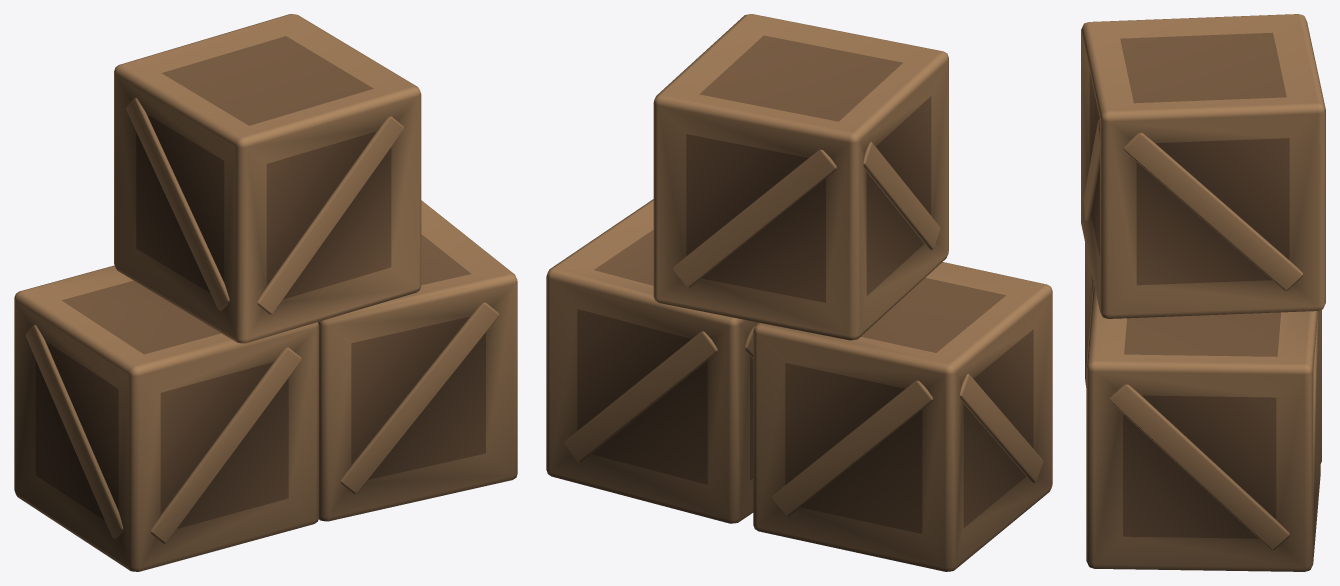
Rendered from CrateStack.fbx.
3 views of the same model, side by side, from view 1: azimuth 30°, elevation 25°; view 2: azimuth 150°, elevation 25°; view 3: azimuth 270°, elevation 25° (orthographic).
Parts seen in each view (by area): view 1: CrateStack; view 2: CrateStack; view 3: CrateStack.
Boxes of the visible parts, x1,y1,x2,y2 form: CrateStack: (14, 14, 517, 571); CrateStack: (546, 14, 1052, 571); CrateStack: (1081, 14, 1325, 571).
Size of the model in its own units: 1.24 by 1.2 by 0.6475.
